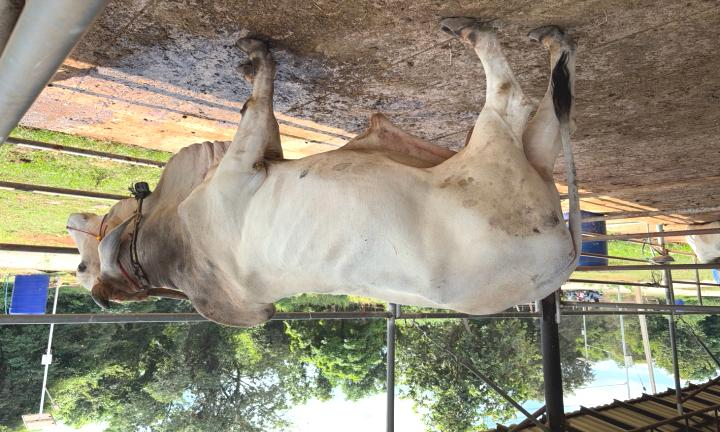Brahman: (67, 19, 582, 327)
